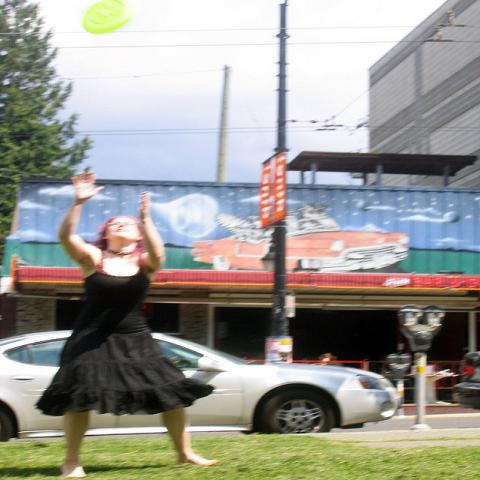car: (1, 328, 407, 441), (452, 350, 480, 410)
